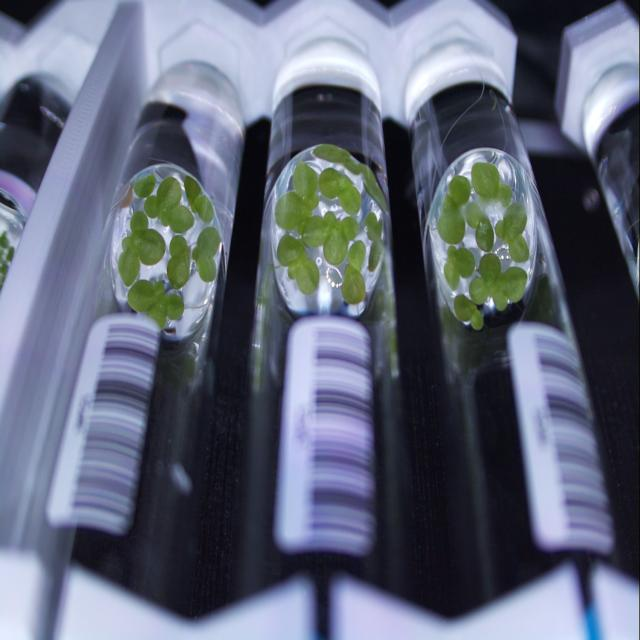Lemna-Gibba: (118, 210, 165, 286), (469, 254, 528, 311), (275, 162, 319, 233), (301, 212, 359, 265), (128, 280, 184, 330), (278, 233, 319, 295), (438, 175, 471, 243), (156, 177, 194, 233), (495, 202, 530, 262), (319, 168, 361, 215), (471, 162, 512, 207), (312, 143, 369, 175), (341, 240, 366, 305), (192, 227, 220, 282), (464, 202, 494, 252), (184, 175, 214, 223), (444, 245, 475, 290), (362, 165, 389, 212), (168, 235, 190, 289), (365, 212, 384, 272), (454, 294, 484, 330), (134, 173, 156, 198), (144, 195, 159, 218), (471, 314, 482, 329)
